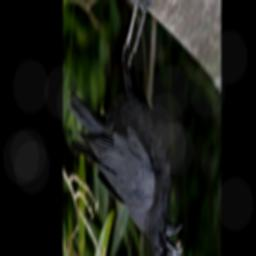Crow: (68, 0, 183, 256)
